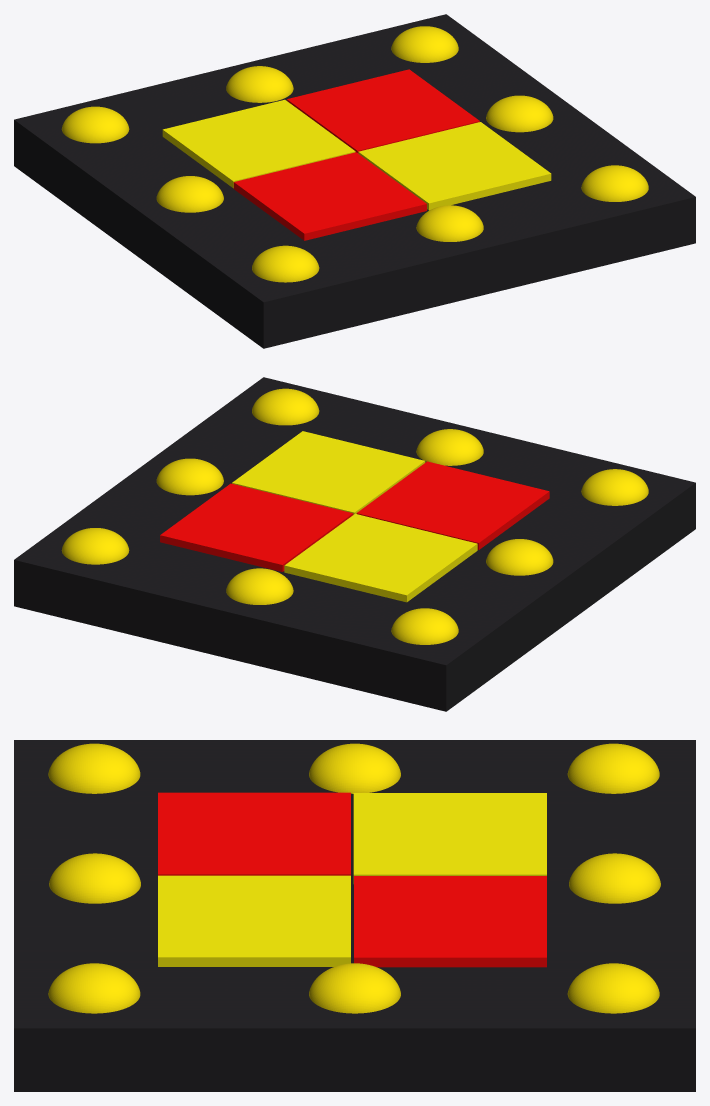
File: Rochefort.glb
3 views of the same model, one above another, from view 1: azimuth 30°, elevation 25°; view 2: azimuth 150°, elevation 25°; view 3: azimuth 270°, elevation 25° (orthographic). The views are drawn at different scales.
Visible parts, largest first — view 1: Box (×2), Sphere, Box 1, Box 3, Box 2; view 2: Box (×2), Sphere, Box 3, Box 2, Box 1; view 3: Box (×2), Sphere, Box 2, Box 1, Box 3.
Boxes of the visible parts, bbox=[...] form: Box (×2): bbox=[14, 14, 695, 348]; Sphere: bbox=[61, 26, 648, 282]; Box 1: bbox=[233, 152, 426, 240]; Box 3: bbox=[162, 99, 355, 188]; Box 2: bbox=[287, 69, 479, 153]; Box (×2): bbox=[14, 377, 695, 711]; Sphere: bbox=[61, 388, 648, 644]; Box 3: bbox=[284, 514, 477, 602]; Box 2: bbox=[160, 483, 353, 571]; Box 1: bbox=[356, 461, 549, 549]; Box (×2): bbox=[14, 740, 695, 1091]; Sphere: bbox=[48, 743, 660, 1013]; Box 2: bbox=[354, 876, 546, 967]; Box 1: bbox=[158, 792, 350, 875]; Box 3: bbox=[353, 793, 546, 883].
Bounding box in the file's own units: 7.35 × 1.05 × 7.35.
